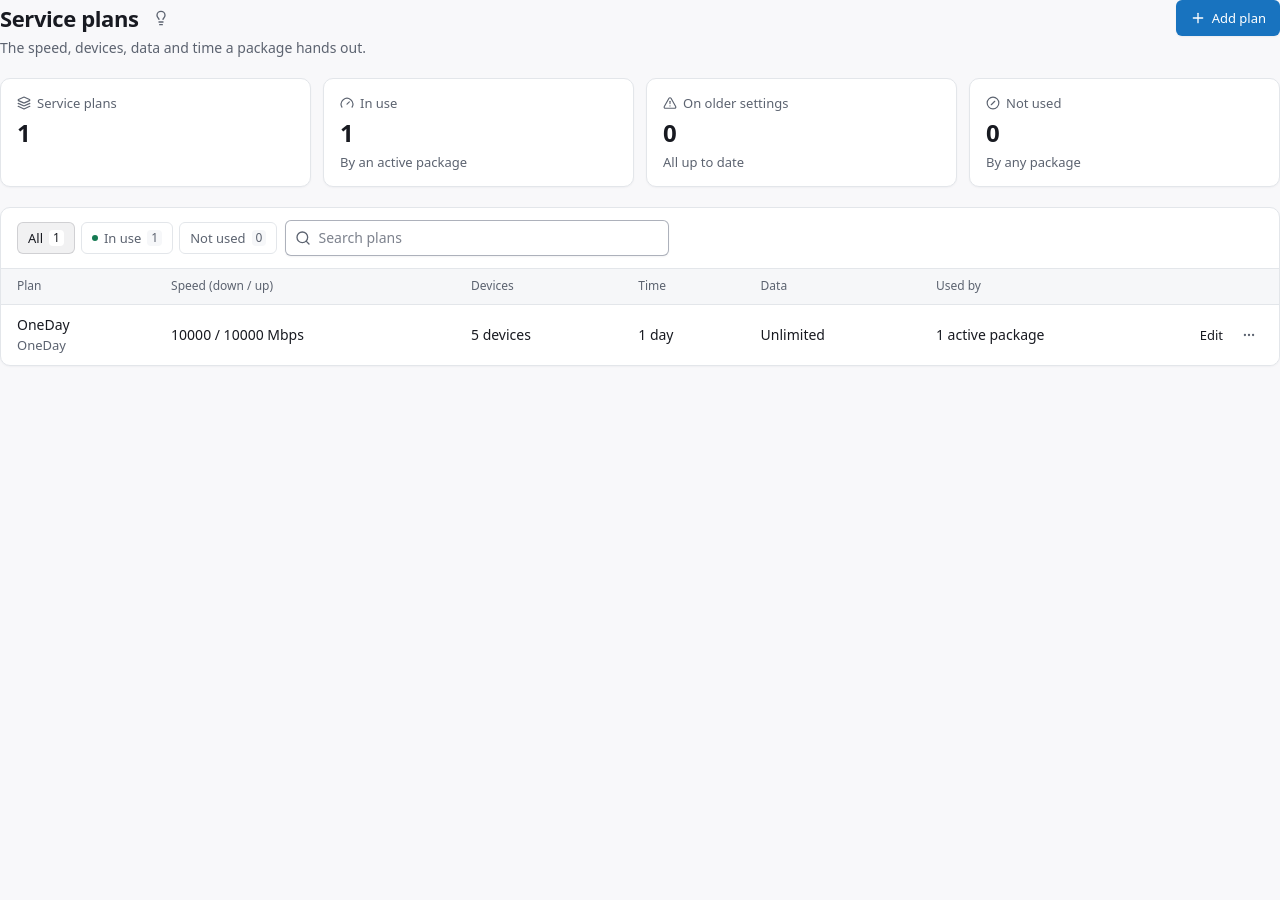
ServicePlansPage — add, record and delete › shows the server's code_exists refusal inside the form
The width and height of the screenshot is (1280, 900).
Check: the 1st text "OneDay" is shown, box left=17, top=315, right=70, bottom=334
Step 1. Click the button "Add plan" → point(1228, 18), box left=1176, top=0, right=1279, bottom=36
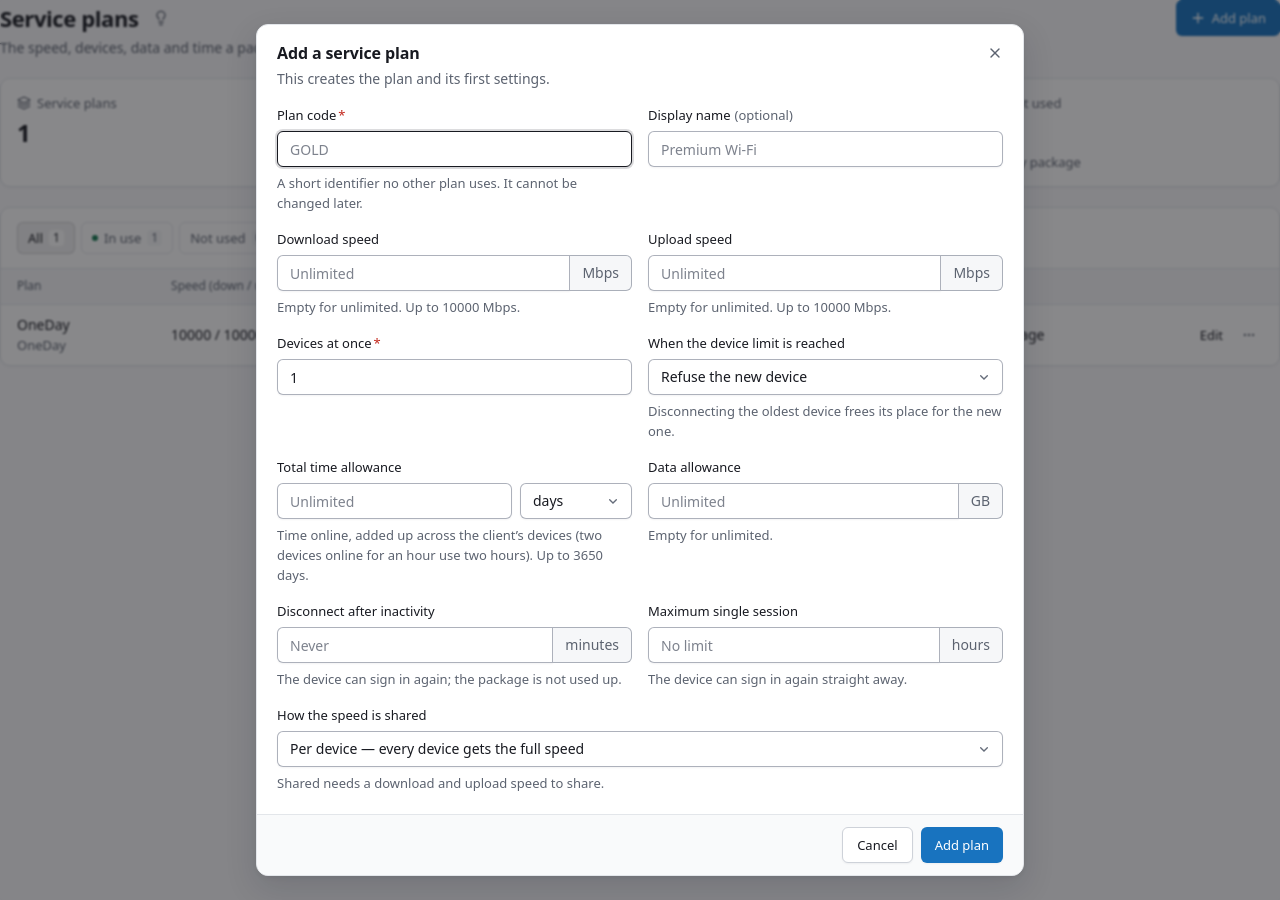
Step 2. Type "OneDay" into the field named "code" → point(454, 149), box left=277, top=131, right=632, bottom=167
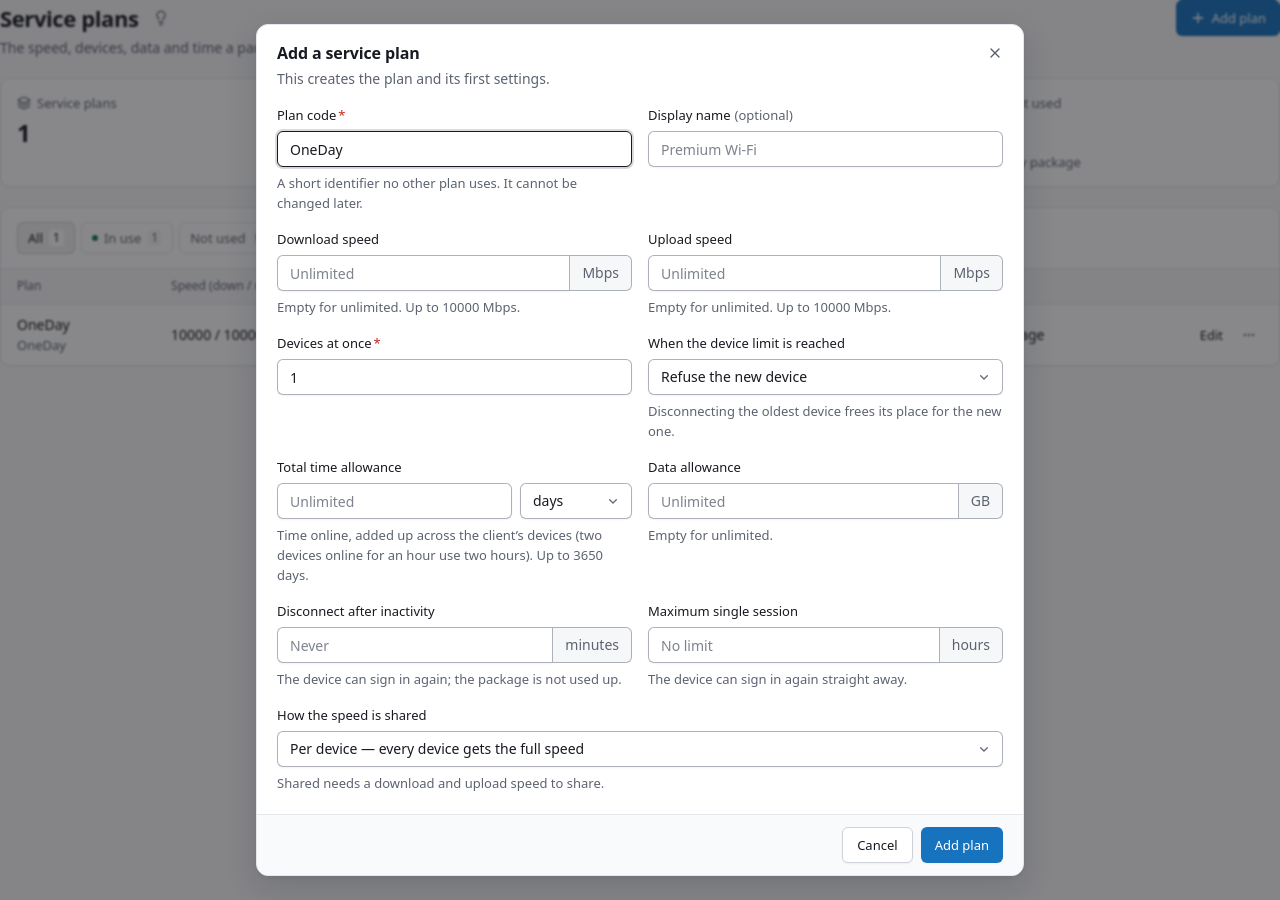
Step 3. Click the button "Add plan" → point(962, 845), box left=921, top=827, right=1003, bottom=863
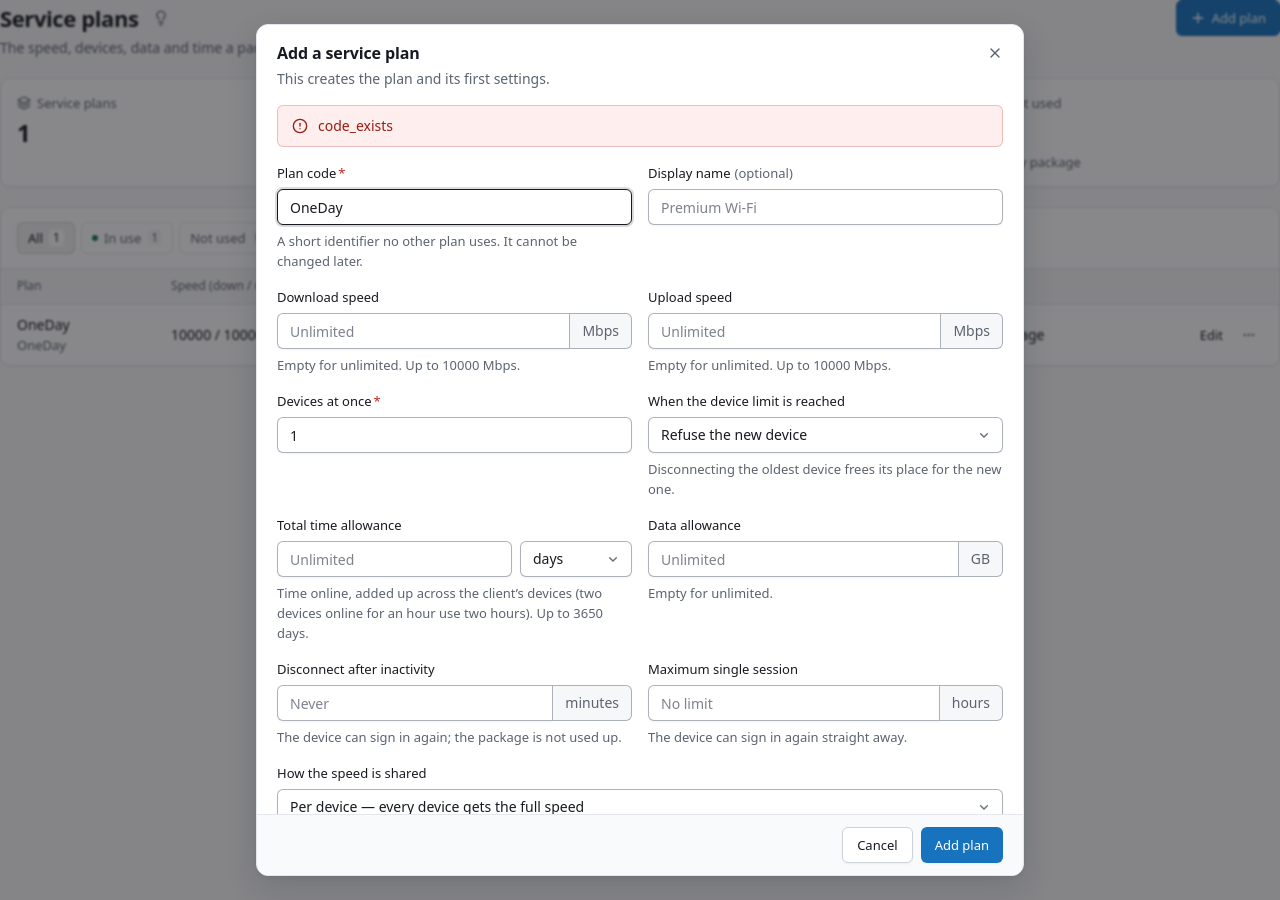
Check: the text "code_exists" is shown, box left=318, top=116, right=393, bottom=136
